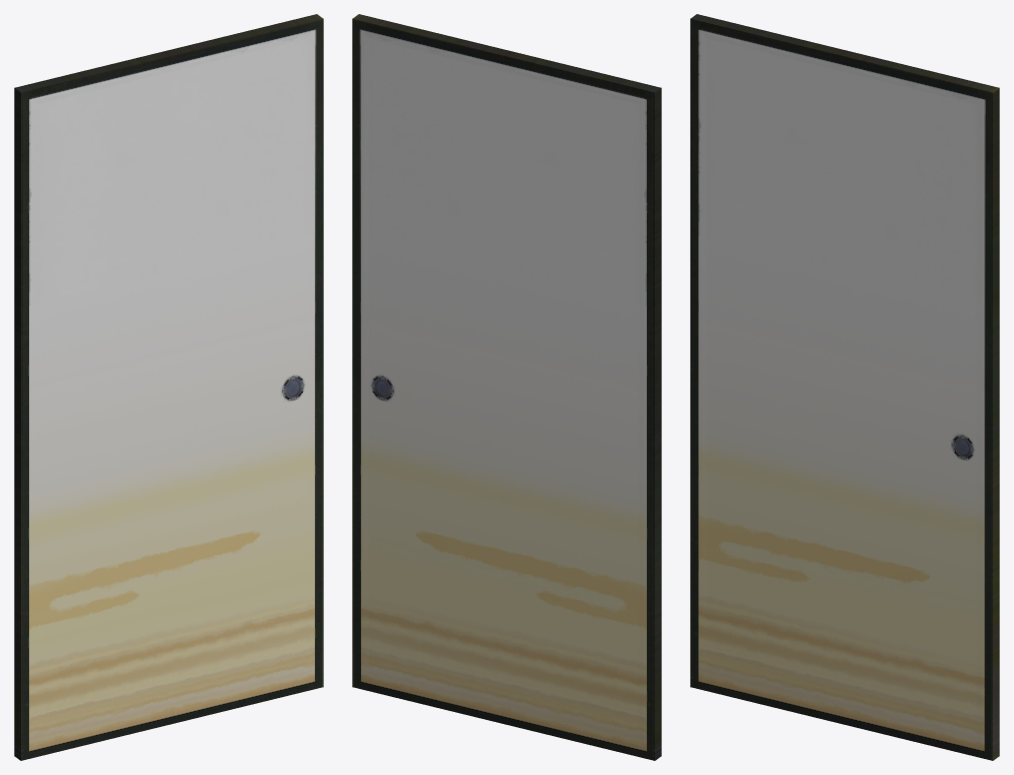
The model's file is P09_fusuma.fbx.
3 renders of one model, left to right at view 1: azimuth 30°, elevation 25°; view 2: azimuth 150°, elevation 25°; view 3: azimuth 330°, elevation 25°, orthographic.
Visible parts, largest first — view 1: fusuma_model; view 2: fusuma_model; view 3: fusuma_model.
Part boxes in pixels (box(x1,y1,x2,y2)): fusuma_model: box(14, 14, 323, 760); fusuma_model: box(352, 14, 661, 760); fusuma_model: box(690, 14, 999, 760).
Bounding box in the file's own units: 27 × 57 × 1.
